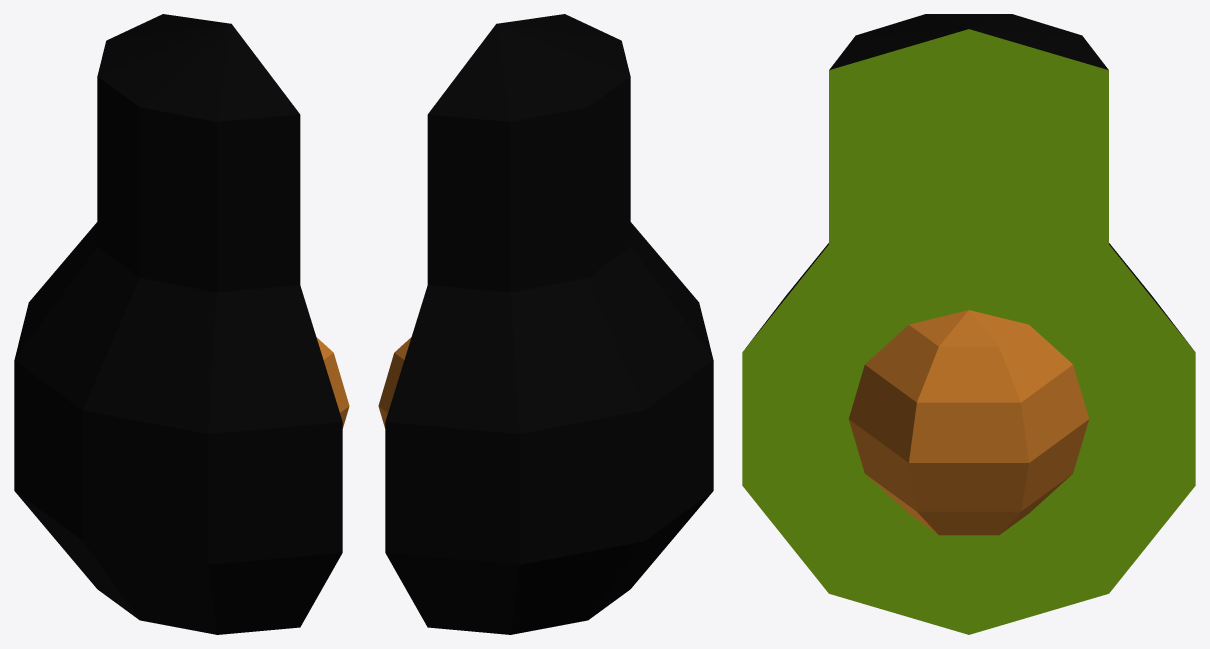
File: Avocado.fbx
The picture shows the model from 3 angles, left to right: view 1: azimuth 30°, elevation 25°; view 2: azimuth 150°, elevation 25°; view 3: azimuth 270°, elevation 25°; orthographic projection. The views are drawn at different scales.
Parts seen in each view (by area): view 1: Sphere_Sphere.001, Sphere.001_Sphere.003; view 2: Sphere_Sphere.001, Sphere.001_Sphere.003; view 3: Sphere.002_Sphere.004, Sphere.001_Sphere.003, Sphere_Sphere.001.
Part boxes in pixels (x1,y1,x2,y2): Sphere_Sphere.001: (14, 14, 342, 634); Sphere.001_Sphere.003: (316, 337, 349, 428); Sphere_Sphere.001: (385, 14, 713, 634); Sphere.001_Sphere.003: (378, 337, 411, 428); Sphere.002_Sphere.004: (742, 29, 1195, 634); Sphere.001_Sphere.003: (849, 310, 1088, 535); Sphere_Sphere.001: (746, 14, 1191, 347).
Size of the model in its own units: 134 by 281 by 190.
